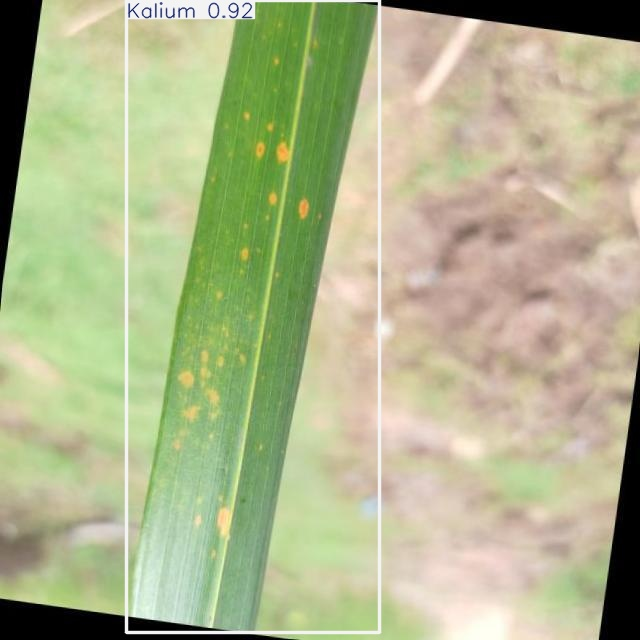Kalium: (127, 0, 379, 632)
